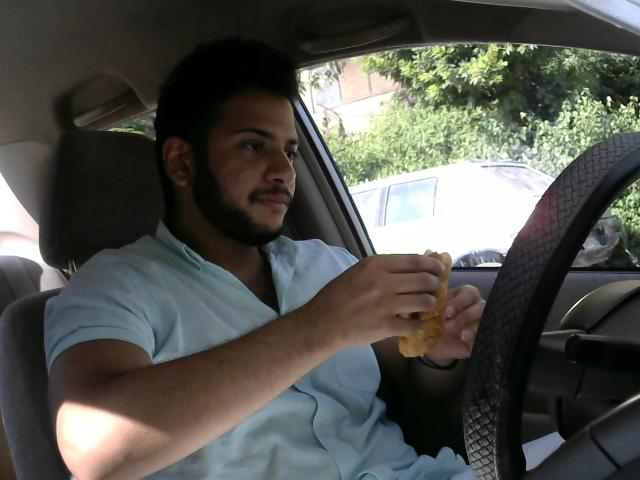Eating: (362, 242, 459, 365)
